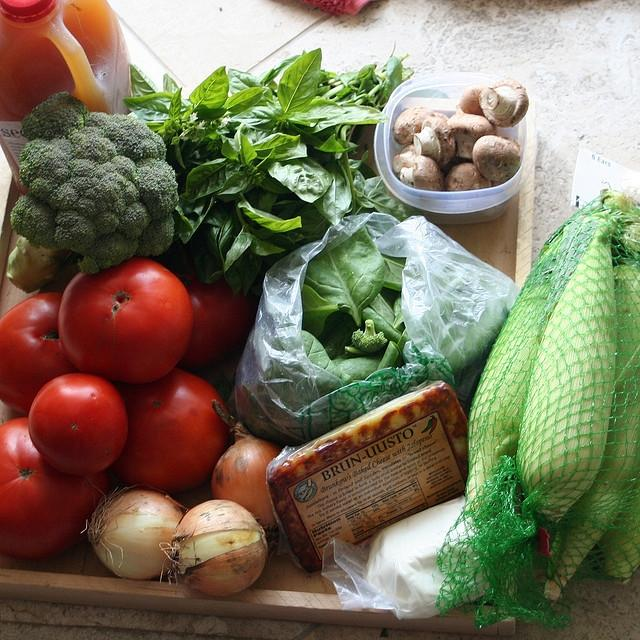broccoli: (4, 90, 180, 294)
corn: (466, 198, 606, 502), (518, 206, 640, 520), (544, 258, 640, 604), (596, 478, 639, 584)
mushroom: (478, 78, 528, 127), (446, 114, 499, 160), (472, 135, 520, 182), (414, 116, 456, 166), (392, 107, 436, 146), (399, 155, 444, 191), (443, 162, 492, 192), (459, 84, 486, 116), (392, 142, 418, 174)
onion: (212, 400, 282, 560), (159, 499, 267, 597), (88, 490, 183, 580)
tomato: (58, 255, 194, 384), (110, 368, 232, 495), (0, 419, 106, 563), (28, 372, 128, 474), (0, 291, 81, 416), (172, 268, 255, 380)
